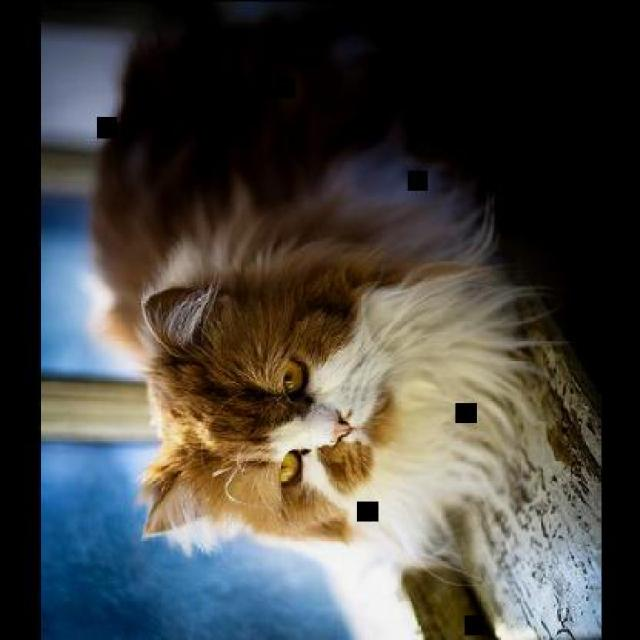unauthorized: (83, 6, 586, 639)
